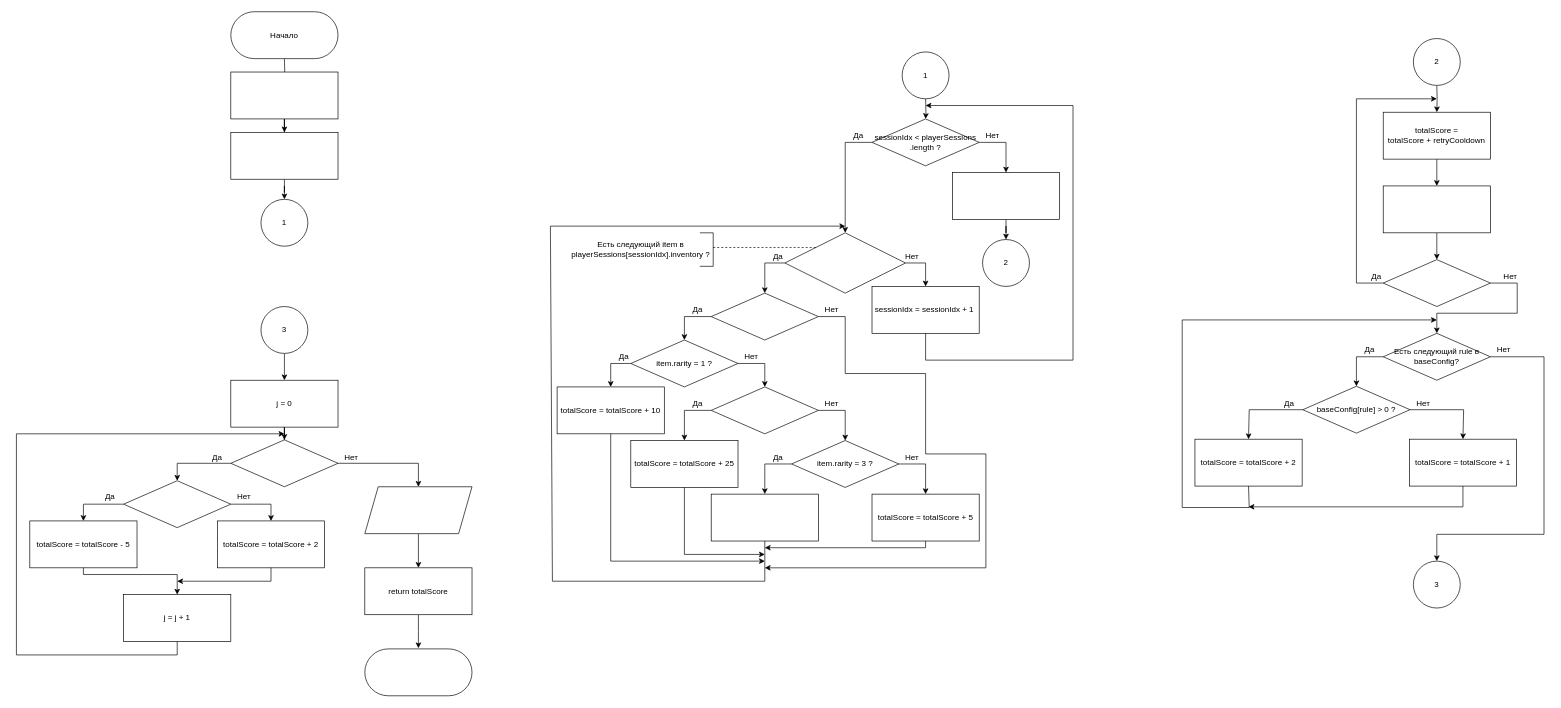
Image size: 1561x708. Some labels were removed from this diagram. Each missing label, with the centre of its shape:
item.isEquipped ?: (764,316)
item.rarity = 2 ?: (764,410)
j < 3 ?: (284,463)
retryCooldown = 3: (1006,195)
retryCooldown = retryCooldown - 1: (1436,209)
retryCooldown > 0 ?: (1436,283)
sessionIdx = 0: (284,155)
totalScore = 0: (284,95)
totalScore = totalScore + 50: (764,517)
totalScore > 100 ?: (177,504)
Вывод totalScore: (418,510)
Конец: (418,672)
